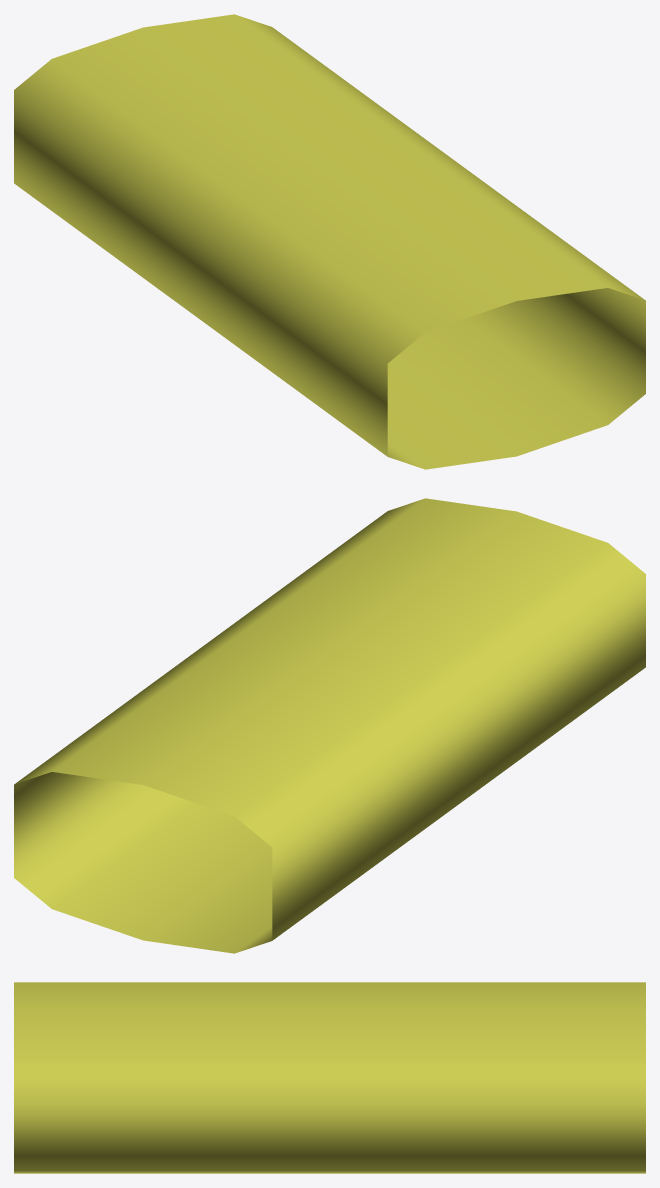
Rendered from Mantaenvuelta.fbx.
3 renders of one model, top to bottom at view 1: azimuth 30°, elevation 25°; view 2: azimuth 150°, elevation 25°; view 3: azimuth 270°, elevation 25°, orthographic. The views are drawn at different scales.
Visible parts, largest first — view 1: NurbsPath; view 2: NurbsPath; view 3: NurbsPath.
Part boxes in pixels (x1=…): NurbsPath: x1=14, y1=14, x2=645, y2=469; NurbsPath: x1=14, y1=498, x2=645, y2=953; NurbsPath: x1=14, y1=982, x2=645, y2=1173.
Size of the model in its own units: 54.42 by 31.3 by 136.
